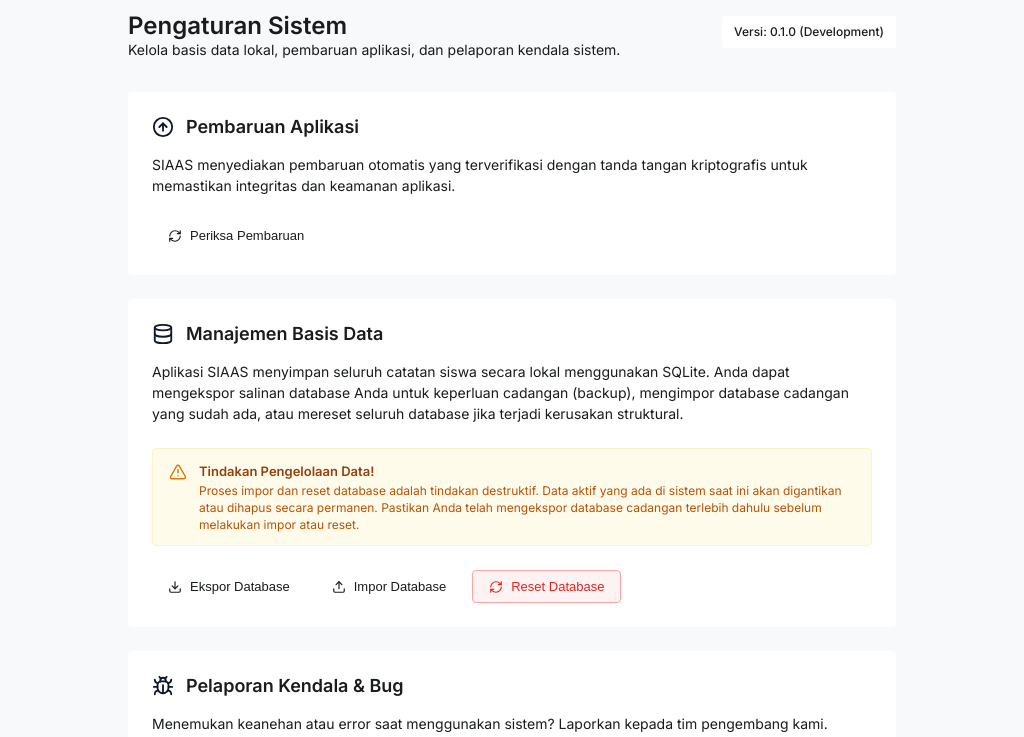
Test: PengaturanView › shows confirmation prompt when reset database is clicked
Click the button with test id "reset-db-button" at point(547, 587), box 472,570 -> 621,603
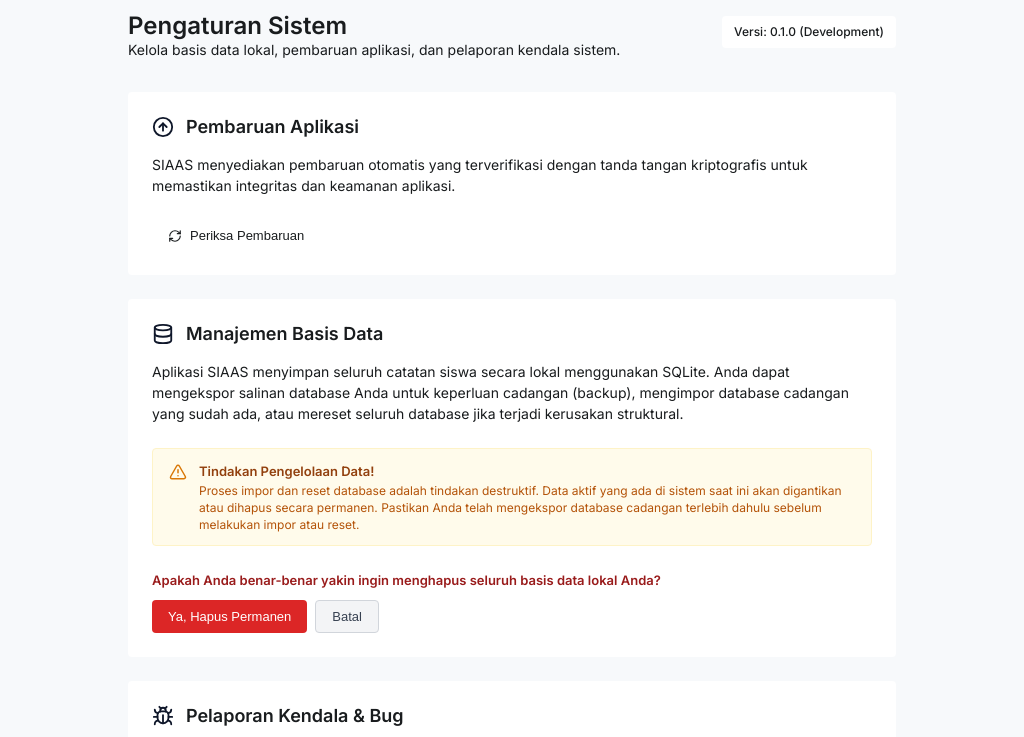
Check: the text "Apakah Anda benar-benar yakin ingin menghapus seluruh basis data lokal Anda?" is shown, box 152,572 -> 661,588
Check: the button with test id "confirm-reset-button" is shown, box 152,600 -> 307,633
Check: the button with test id "cancel-reset-button" is shown, box 315,600 -> 379,633
